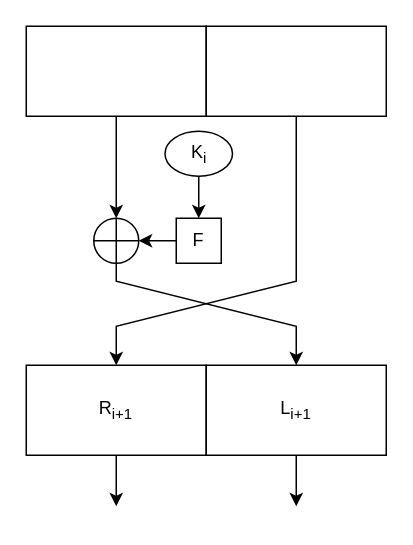
Some shapes in this 413 by 545 pixel diagram are drawn without their labels. The shapes that lost their labels are listed below. From the top down, each one's centre as x and y in pixels, then its label:
the point at 115,70: R i
the point at 295,70: L i
